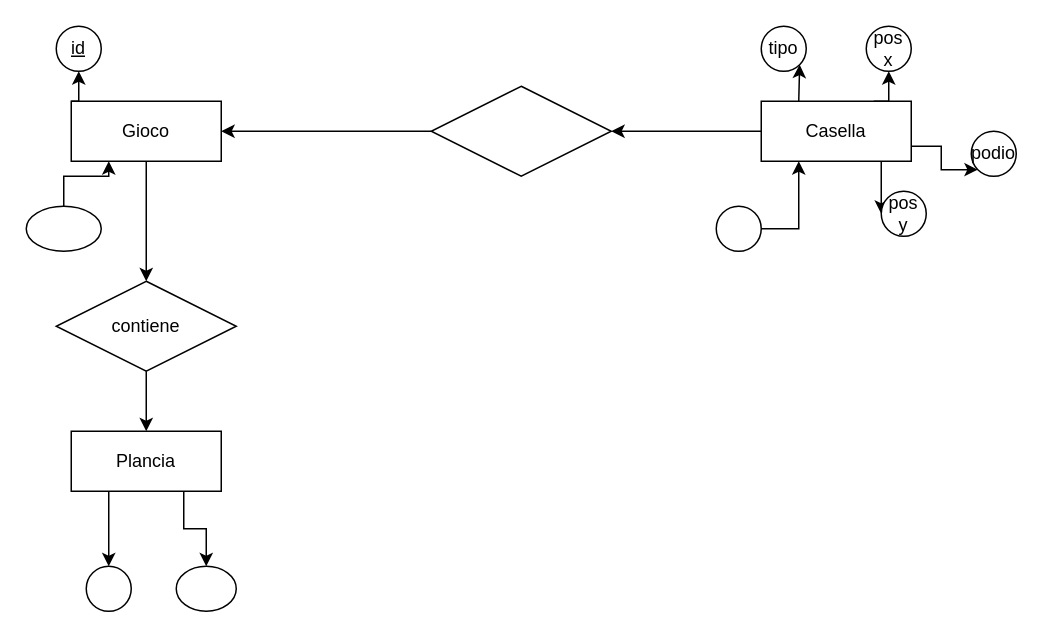
This 1043x638 diagram has some shape labels left out. Each missing label, with the centre of its shape:
appartiene: point 520,130
icone: point 108,588
nord: point 738,228
nsquad: point 63,228
sfondo: point 205,588
